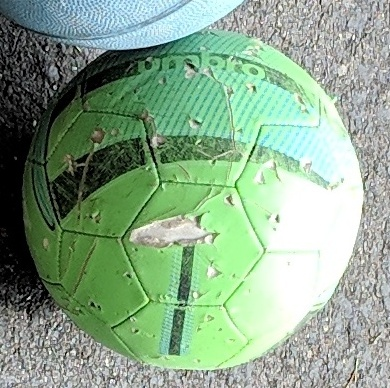ball: (21, 30, 364, 369)
